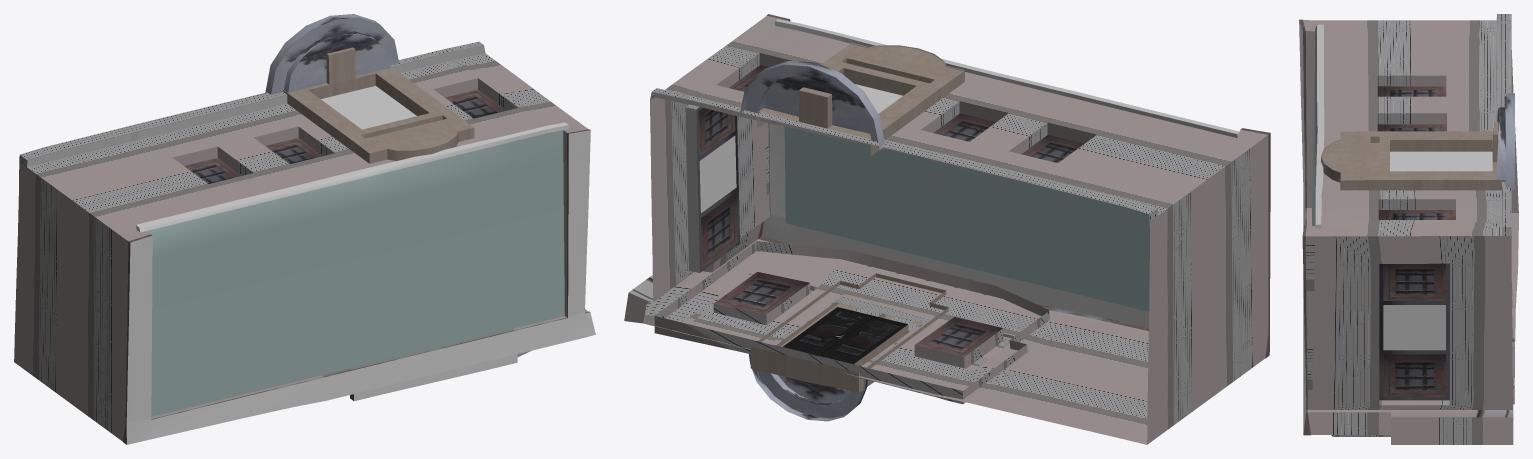
Rendered from Aia_20_2.obj.
The picture shows the model from 3 angles, left to right: view 1: azimuth 30°, elevation 25°; view 2: azimuth 150°, elevation 25°; view 3: azimuth 270°, elevation 25°; orthographic projection. The views are drawn at different scales.
Visible parts, largest first — view 1: polySurface7; view 2: polySurface7; view 3: polySurface7.
Boxes of the visible parts, bbox=[...] form: polySurface7: bbox=[14, 14, 595, 444]; polySurface7: bbox=[624, 14, 1270, 444]; polySurface7: bbox=[1299, 14, 1518, 444].
Bounding box in the file's own units: 11.35 × 7.31 × 4.66.
